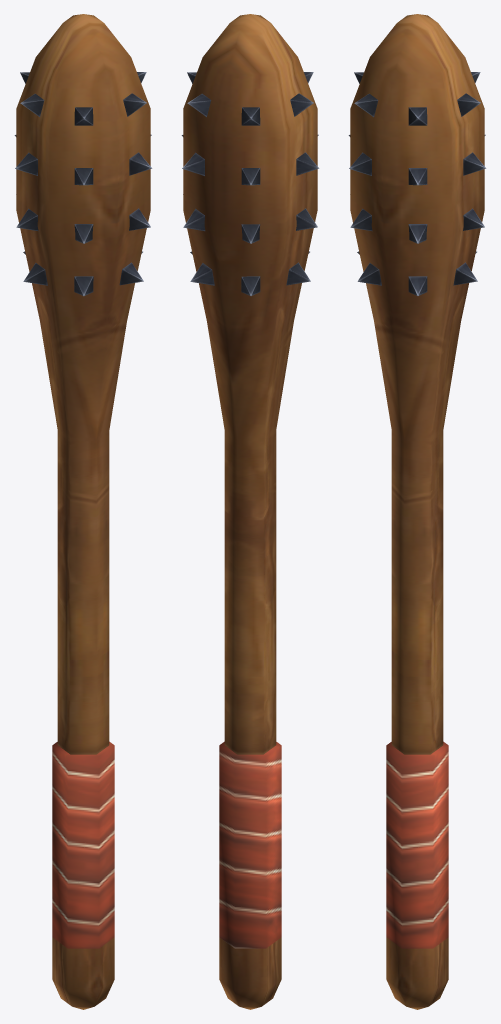
The model's file is Mace.FBX.
3 renders of one model, left to right at view 1: azimuth 30°, elevation 25°; view 2: azimuth 150°, elevation 25°; view 3: azimuth 330°, elevation 25°, orthographic.
Visible parts, largest first — view 1: Mace; view 2: Mace; view 3: Mace.
Boxes of the visible parts, x1,y1,x2,y2 form: Mace: (14,14,152,1009); Mace: (181,14,319,1009); Mace: (348,14,486,1009).
Bounding box in the file's own units: 0.1534 × 1.06 × 0.1332.
